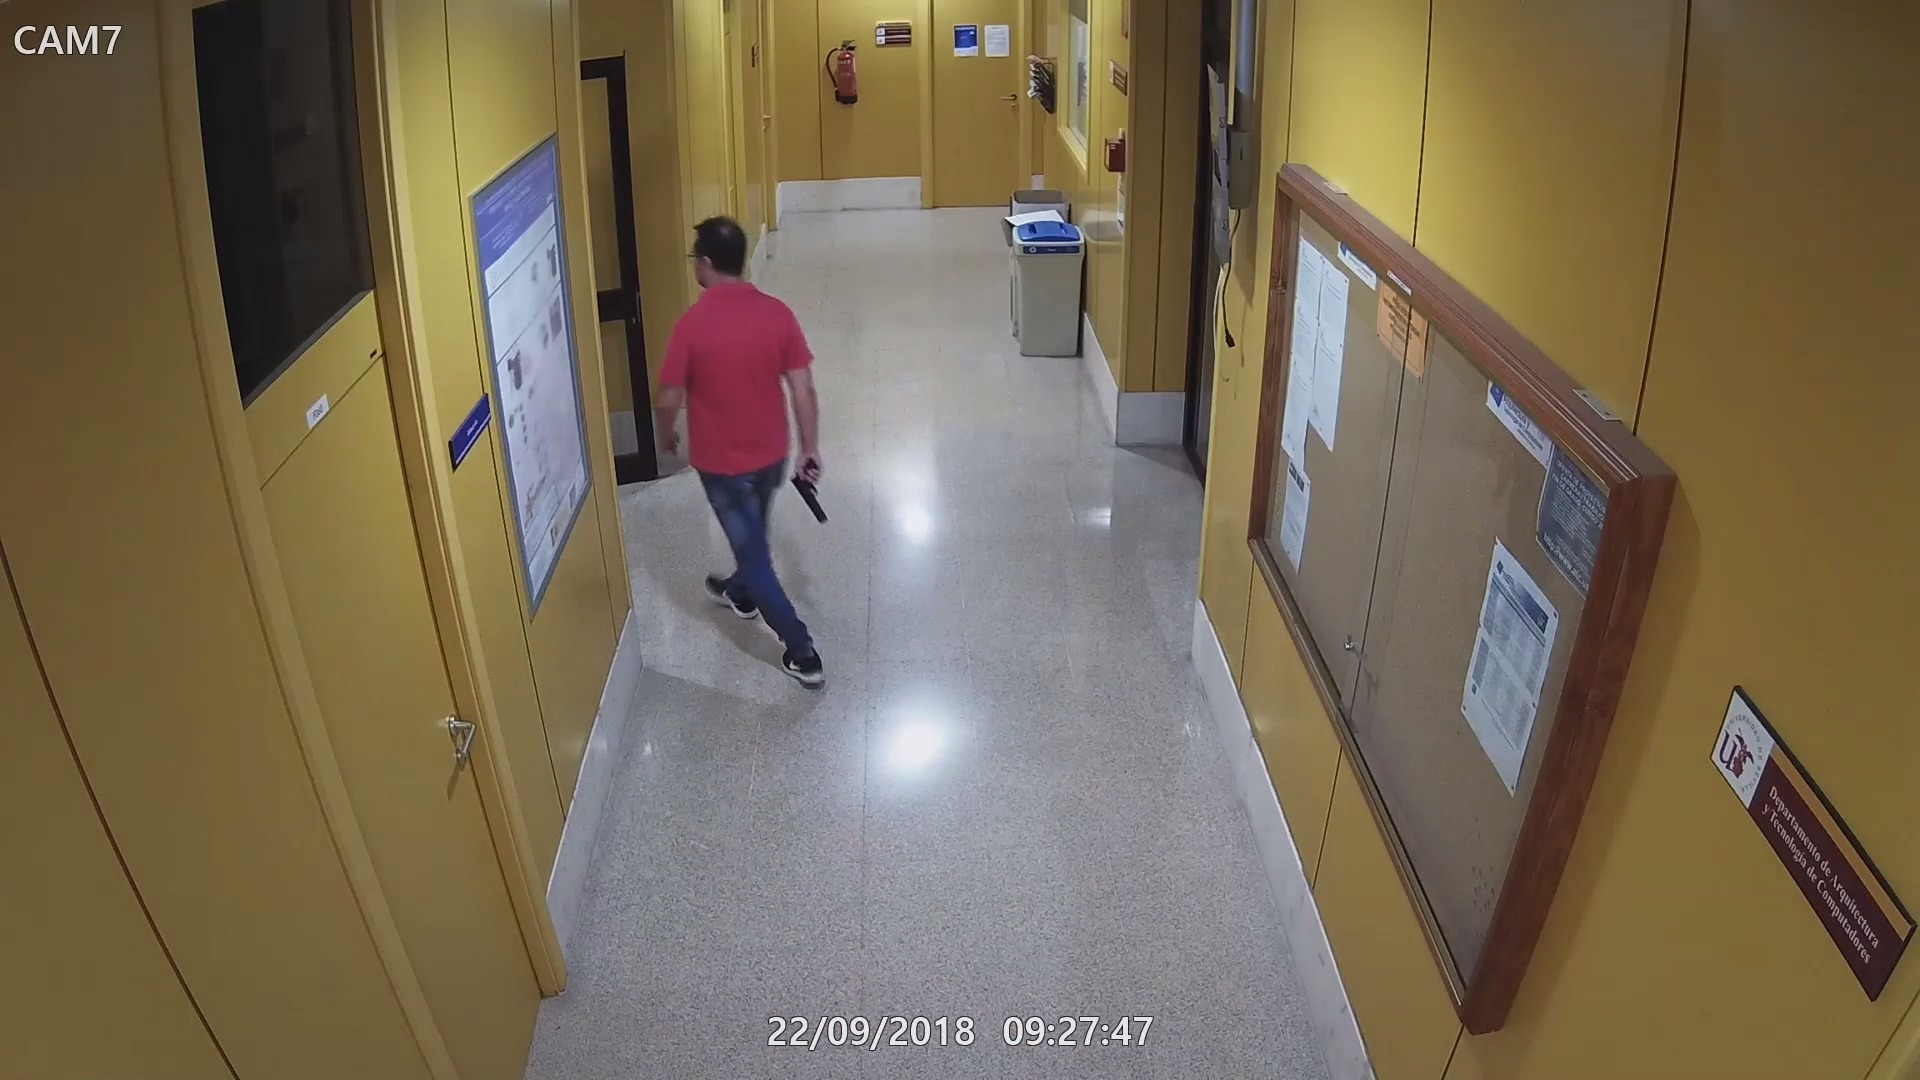Handgun: (791, 456, 831, 524)
